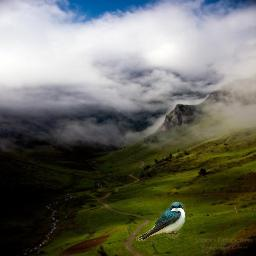Swallow: (136, 202, 186, 241)
